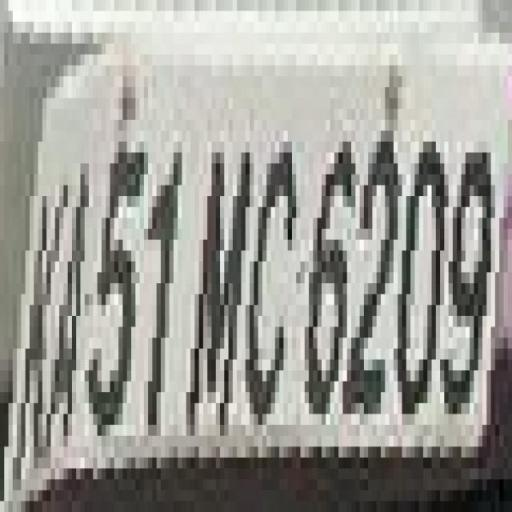number plate: (21, 22, 512, 468)
